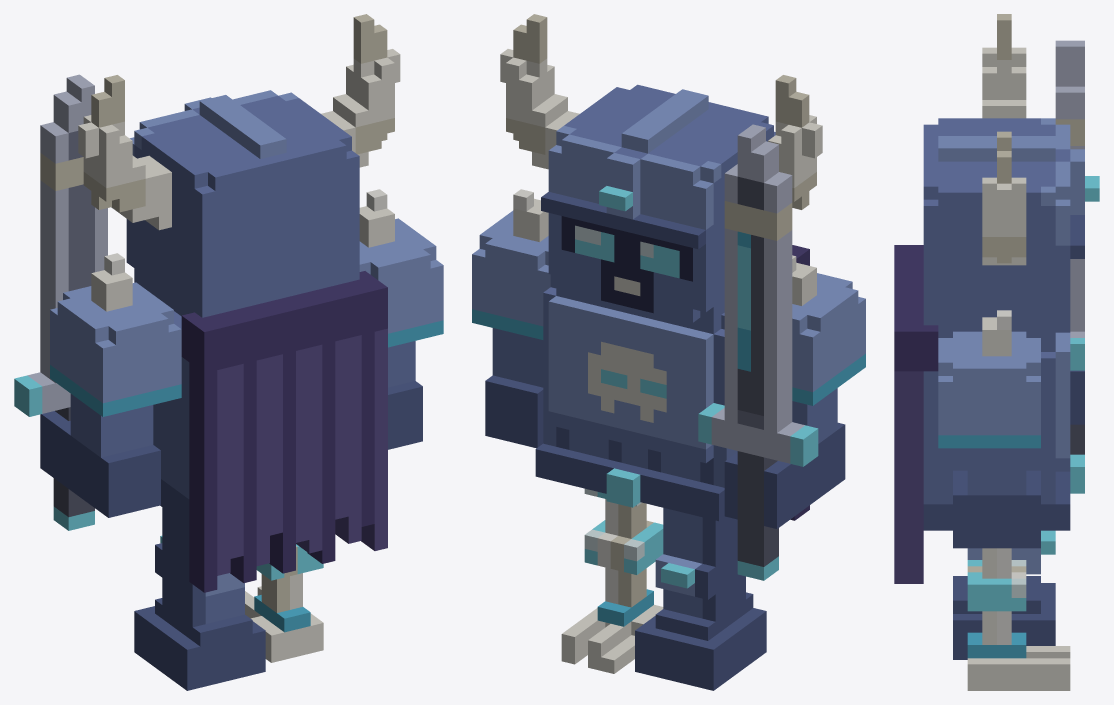
The model's file is KorbloxoScheletrino.glb.
3 views of the same model, side by side, from view 1: azimuth 30°, elevation 25°; view 2: azimuth 150°, elevation 25°; view 3: azimuth 270°, elevation 25° (orthographic). The views are drawn at different scales.
Parts seen in each view (by area): view 1: geometry_0; view 2: geometry_0; view 3: geometry_0.
Part boxes in pixels (box(x1,y1,x2,y2)): geometry_0: box(14, 14, 443, 690); geometry_0: box(472, 14, 865, 690); geometry_0: box(894, 14, 1099, 690).
Bounding box in the file's own units: 0.6136 × 1 × 0.3182.
